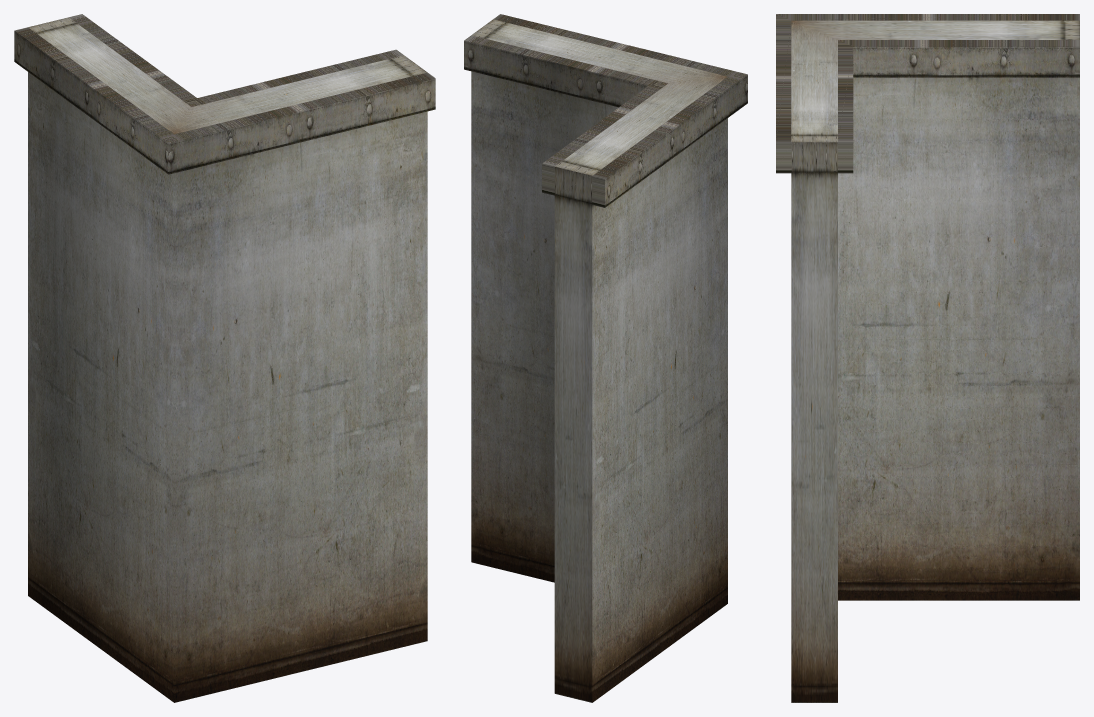
The model's file is Modular corner wall concrete.FBX.
The picture shows the model from 3 angles, left to right: view 1: azimuth 30°, elevation 25°; view 2: azimuth 150°, elevation 25°; view 3: azimuth 270°, elevation 25°; orthographic projection. The views are drawn at different scales.
Visible parts, largest first — view 1: modular concrete corner; view 2: modular concrete corner; view 3: modular concrete corner.
Boxes of the visible parts, left/top/right/bottom form: modular concrete corner: left=14, top=14, right=435, bottom=702; modular concrete corner: left=464, top=14, right=747, bottom=702; modular concrete corner: left=776, top=14, right=1079, bottom=702.
Bounding box in the file's own units: 197 × 197 × 400.
Materials: 1 (1 with a texture image).
